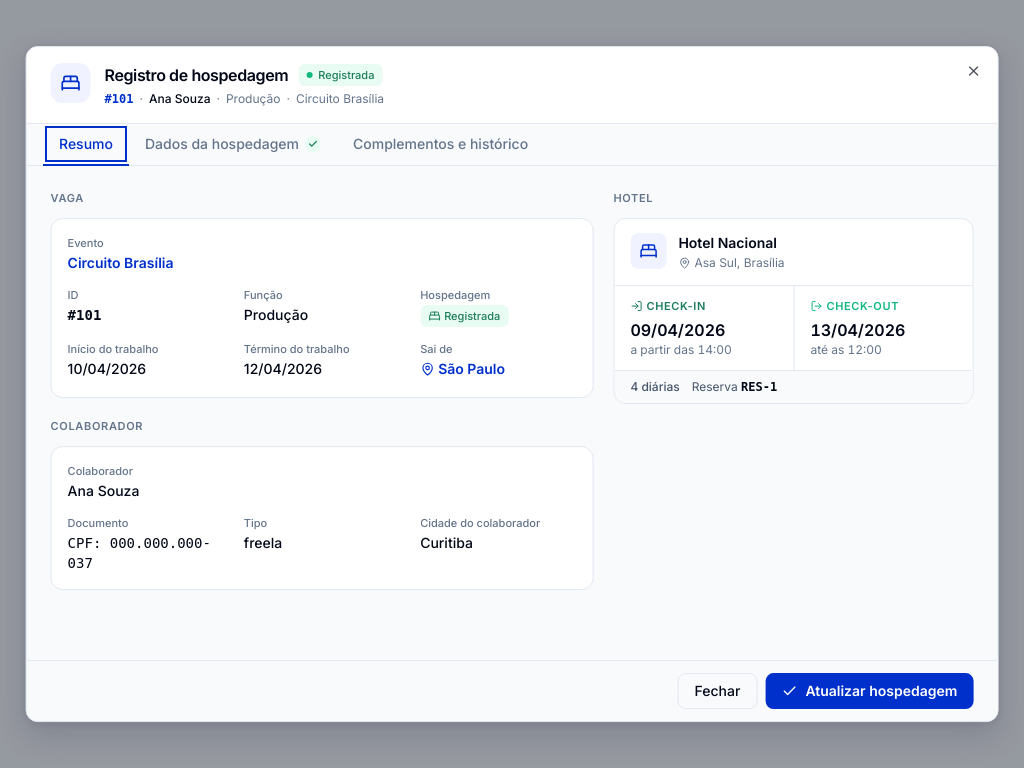
Test case: AccommodationModal › hospedagem registrada abre em 'Resumo', com pílula 'Registrada' e o botão vira 'Atualizar hospedagem'
This screenshot has width=1024, height=768.
Expected: the text "Registrada" next to "Registro de hospedagem" is shown, [318, 68, 374, 82]
Expected: the button "Atualizar hospedagem" is shown, [765, 673, 973, 709]
Click the tab "Dados da hospedagem": [233, 145] box [129, 124, 337, 166]
(page scrolled)
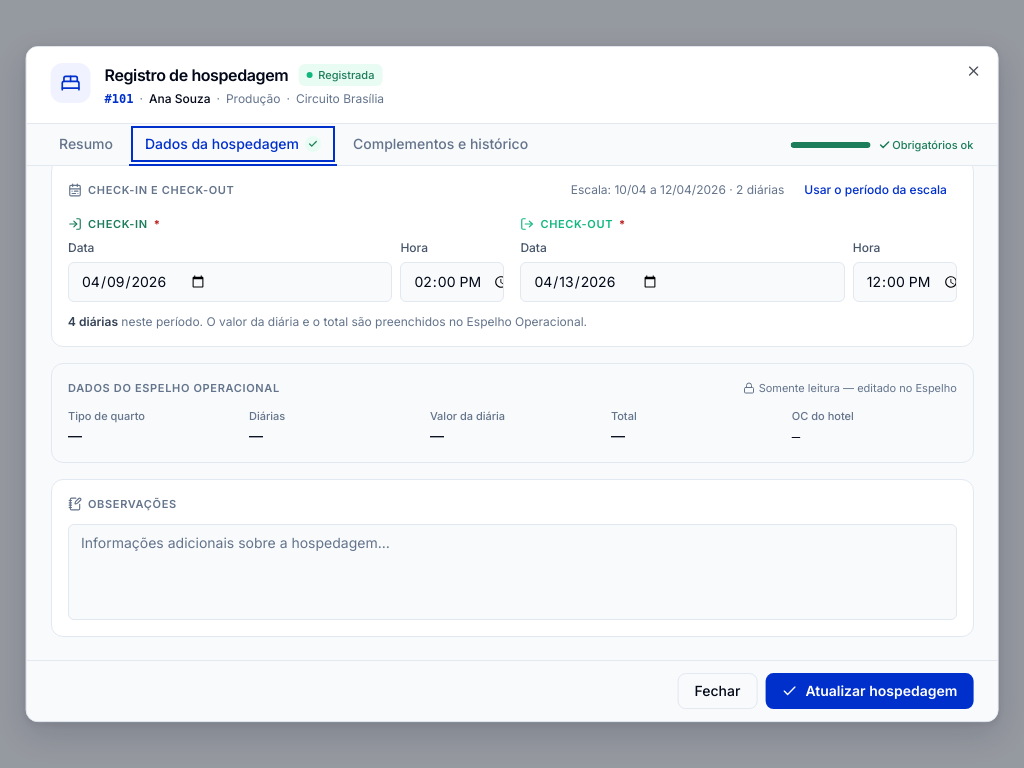
Result: the element with test id "mirror-readonly-block" is shown at [51, 363, 973, 463]
